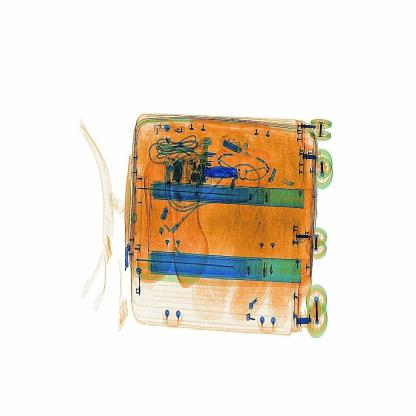knife: (203, 163, 245, 183)
